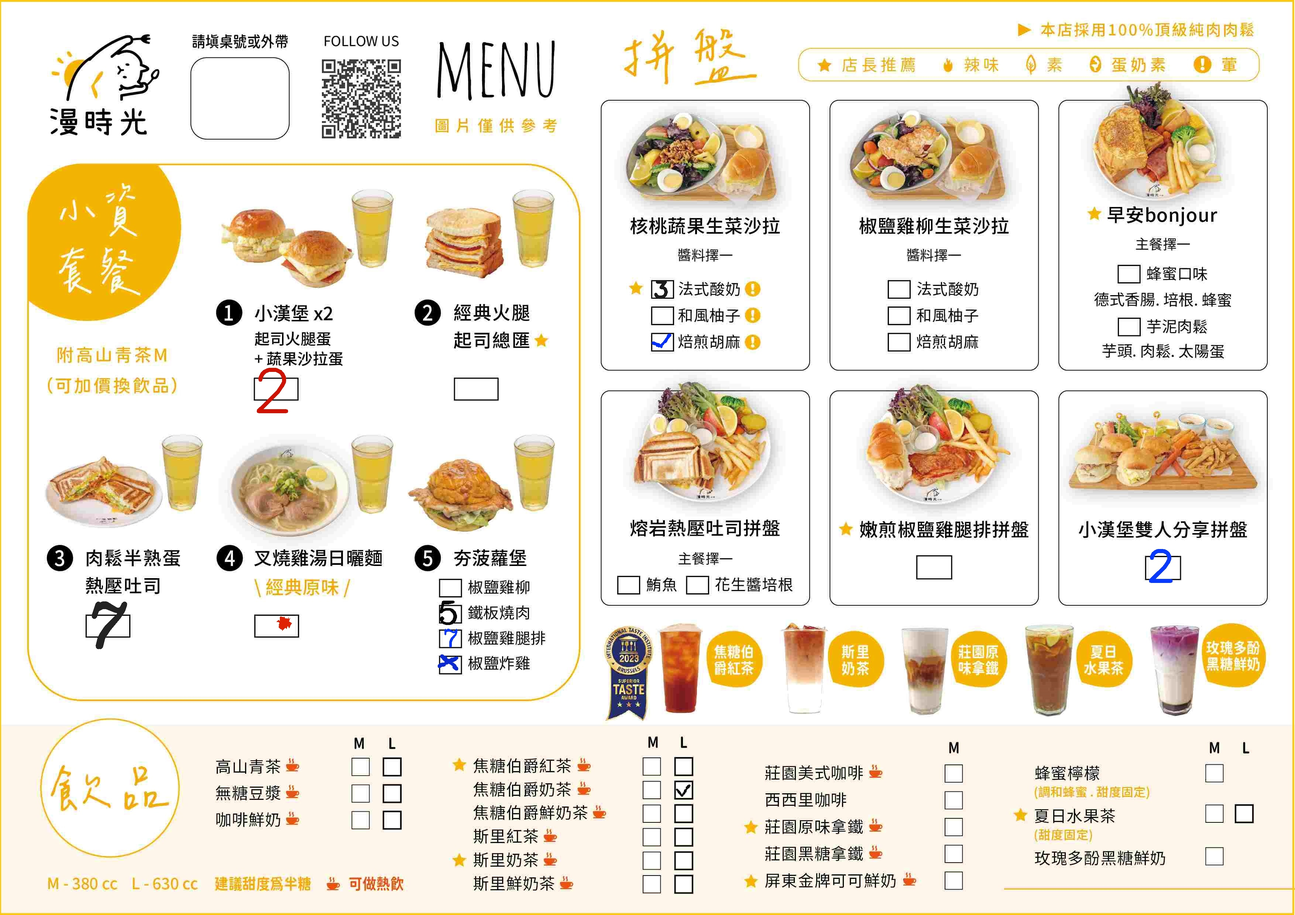marked_circle: (254, 616, 297, 635)
marked_number_2: (255, 379, 298, 398), (1145, 557, 1180, 578)
marked_number_3: (652, 280, 673, 297)
marked_number_5: (439, 605, 462, 623)
marked_number_7: (86, 616, 130, 635), (439, 630, 461, 648)
marked_tick: (651, 331, 673, 349), (676, 782, 693, 800)
marked_x: (439, 655, 461, 672)
